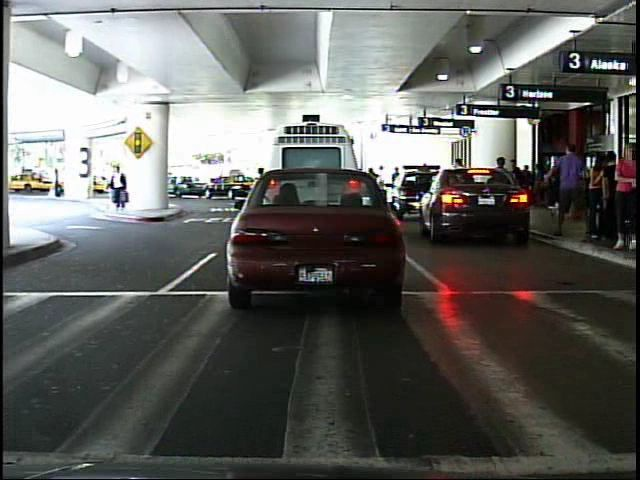person: (610, 140, 638, 255), (101, 157, 135, 213), (53, 164, 68, 203)
